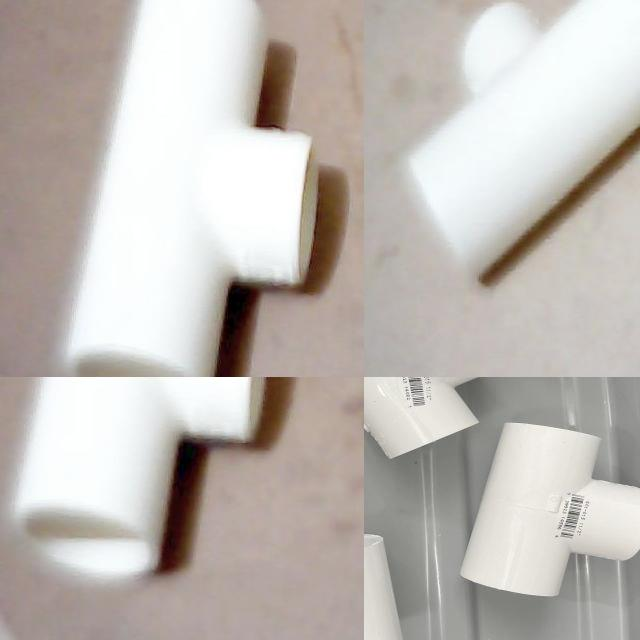L Joint: (364, 377, 490, 461)
T Joint: (60, 0, 319, 377), (10, 377, 268, 584), (460, 423, 640, 597)
